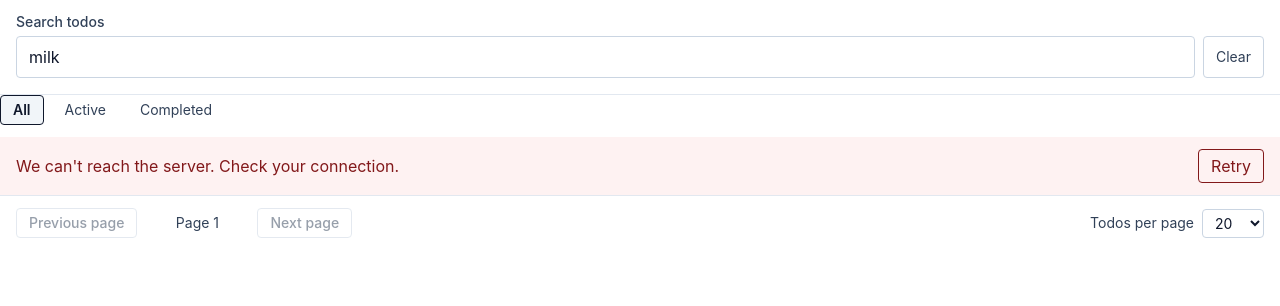
Test: TodoFlows search › shows the safe error with Retry for a failed first load of a search, keeps the typed text, and Clear still works
Expected: the message "We can't reach the server. Check your connection. Retry" is shown, [0, 137, 1279, 195]
Expected: the button "Retry" is shown, [1198, 149, 1264, 183]
Step 1. Click the button with aria-label "Clear search" → (1233, 57), box [1203, 36, 1264, 78]
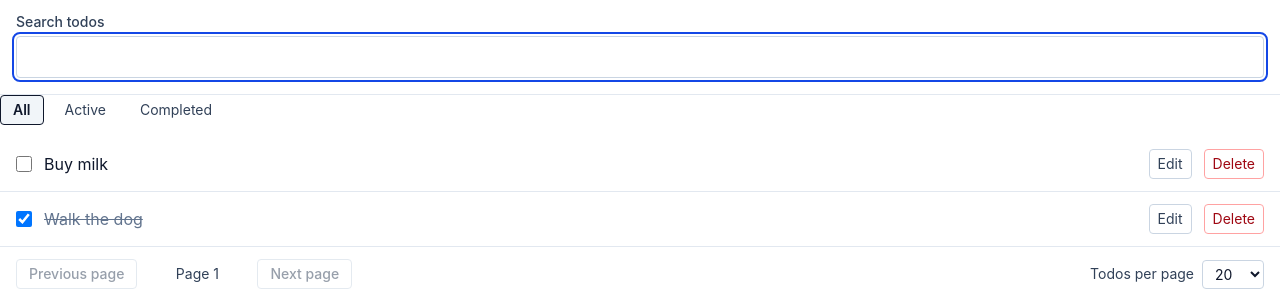
Result: the search field labelled "Search todos" is empty at [16, 36, 1264, 78]
Result: the message "We can't reach the server. Check your connection. Retry" is gone
Result: the text "Buy milk" is shown at [44, 154, 108, 174]
